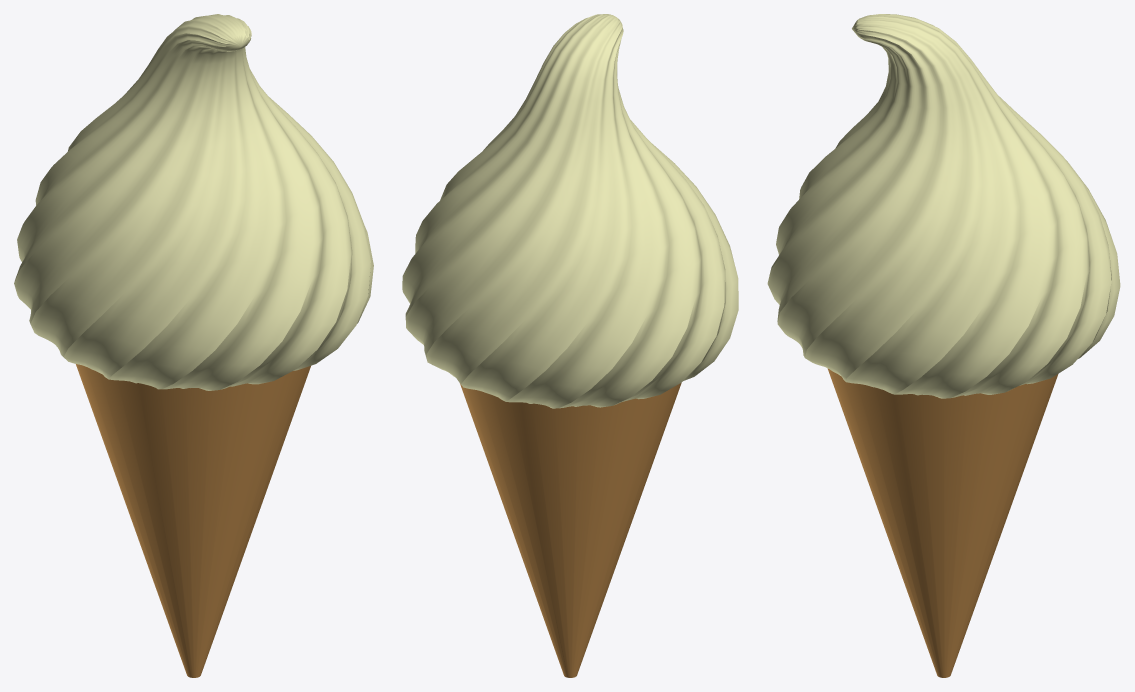
Rendered from Icecream.fbx.
3 views of the same model, side by side, from view 1: azimuth 30°, elevation 25°; view 2: azimuth 150°, elevation 25°; view 3: azimuth 270°, elevation 25° (orthographic). The views are drawn at different scales.
Parts seen in each view (by area): view 1: IceCream; view 2: IceCream; view 3: IceCream.
Boxes of the visible parts, left/top/right/bottom form: IceCream: left=14, top=14, right=373, bottom=677; IceCream: left=402, top=14, right=738, bottom=677; IceCream: left=767, top=14, right=1120, bottom=677.
Size of the model in its own units: 278 by 572 by 278.
